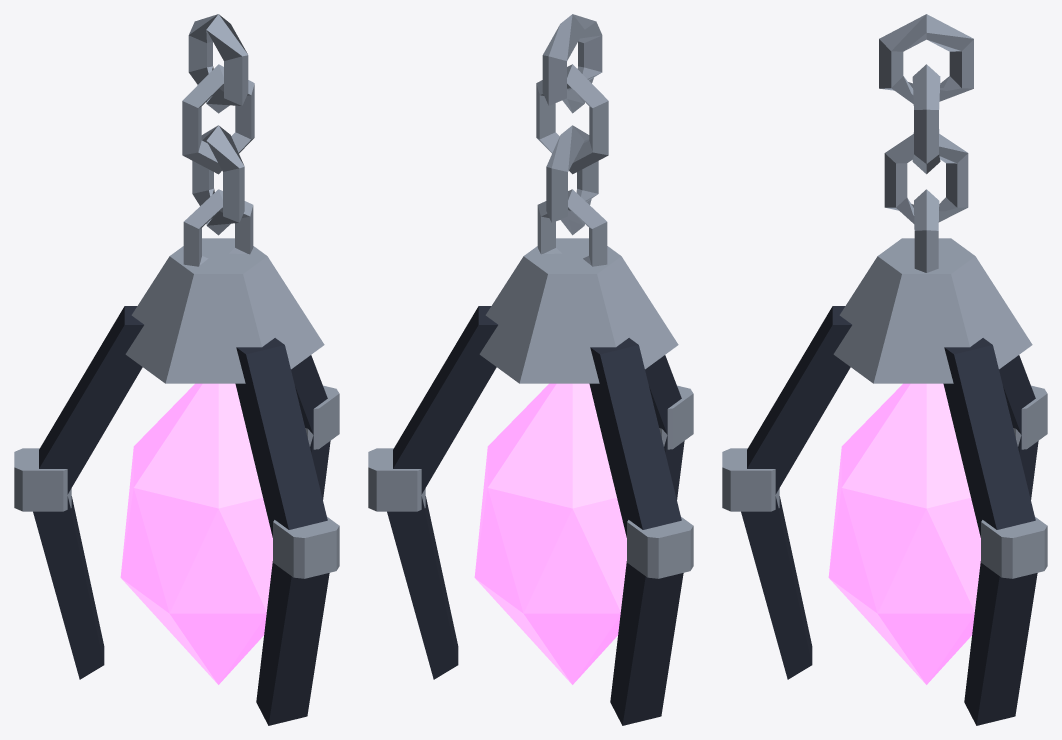
Rendered from PlasmaPrism.fbx.
3 renders of one model, left to right at view 1: azimuth 30°, elevation 25°; view 2: azimuth 150°, elevation 25°; view 3: azimuth 270°, elevation 25°, orthographic.
Parts seen in each view (by area): view 1: Body_Rift_Dark, Neon, Body_Rift_Steel, Chain; view 2: Body_Rift_Dark, Neon, Body_Rift_Steel, Chain; view 3: Body_Rift_Dark, Neon, Body_Rift_Steel, Chain.
Part boxes in pixels (x1,y1,x2,y2): Body_Rift_Dark: [33, 306, 330, 725]; Neon: [120, 383, 272, 684]; Body_Rift_Steel: [14, 189, 339, 578]; Chain: [182, 14, 254, 235]; Body_Rift_Dark: [387, 306, 684, 725]; Neon: [474, 383, 626, 684]; Body_Rift_Steel: [368, 189, 693, 578]; Chain: [536, 14, 608, 235]; Body_Rift_Dark: [741, 306, 1038, 725]; Neon: [828, 383, 980, 684]; Body_Rift_Steel: [722, 189, 1047, 578]; Chain: [879, 14, 973, 223].
Bounding box in the file's own units: 0.1822 × 0.3629 × 0.1593.
